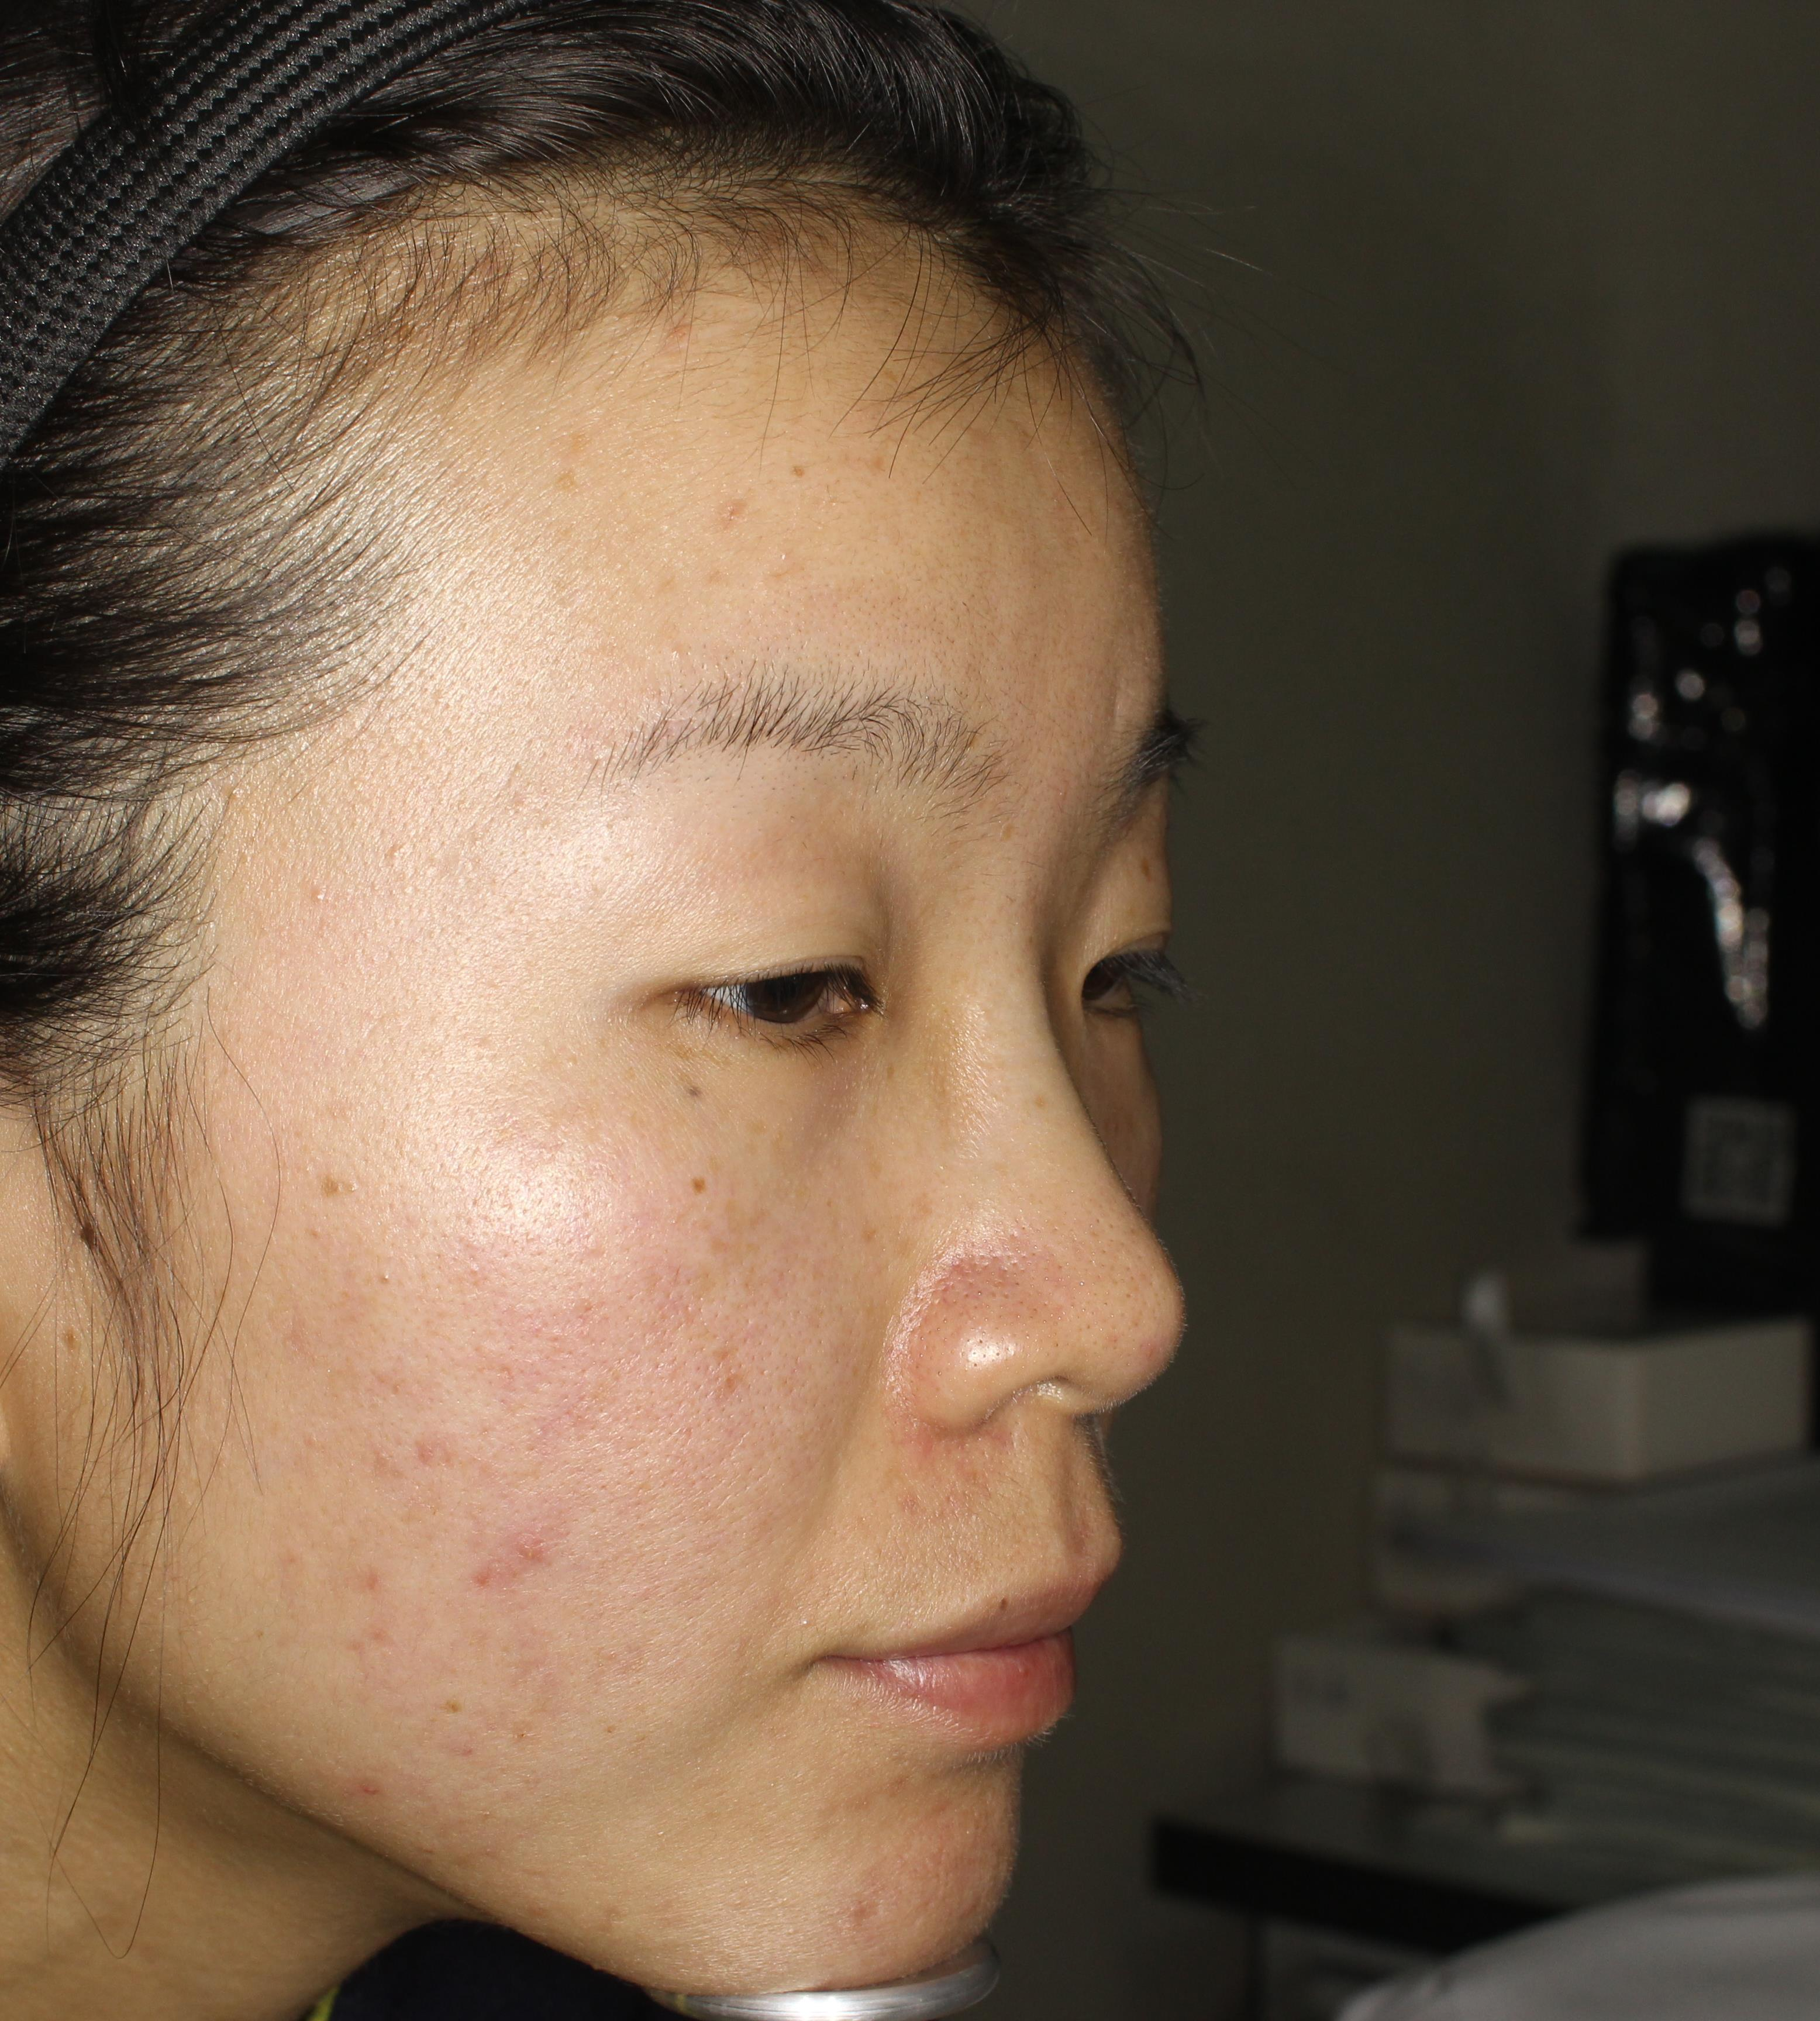fore: (476, 1496, 566, 1608)
